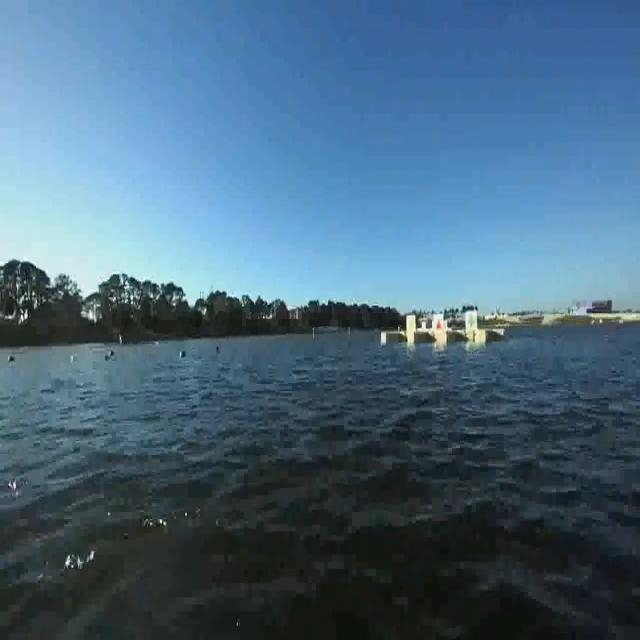blue-cross: (466, 310, 478, 328)
red-dot: (433, 314, 444, 334)
yellow-duck: (405, 314, 417, 333)
